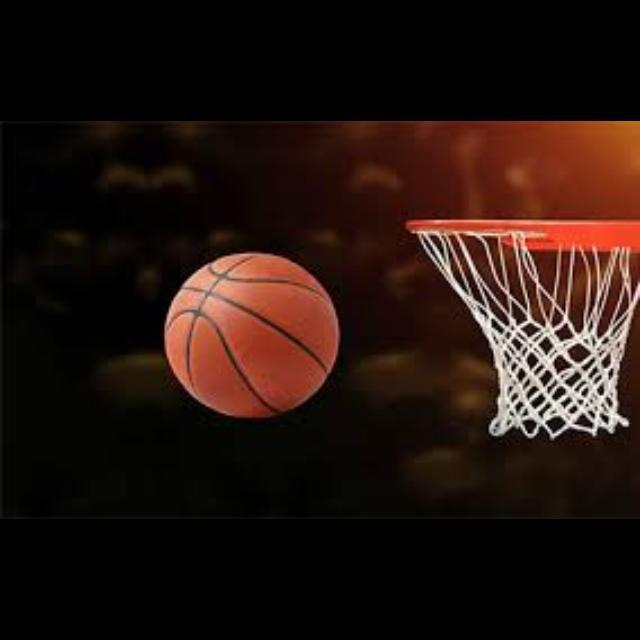basketball: (166, 255, 338, 417)
rim: (406, 220, 640, 438)
